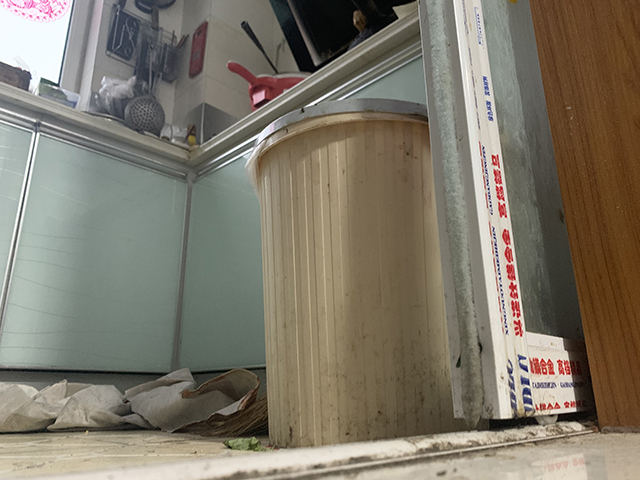cabinet: (1, 80, 195, 395)
trashcan: (245, 98, 491, 449)
